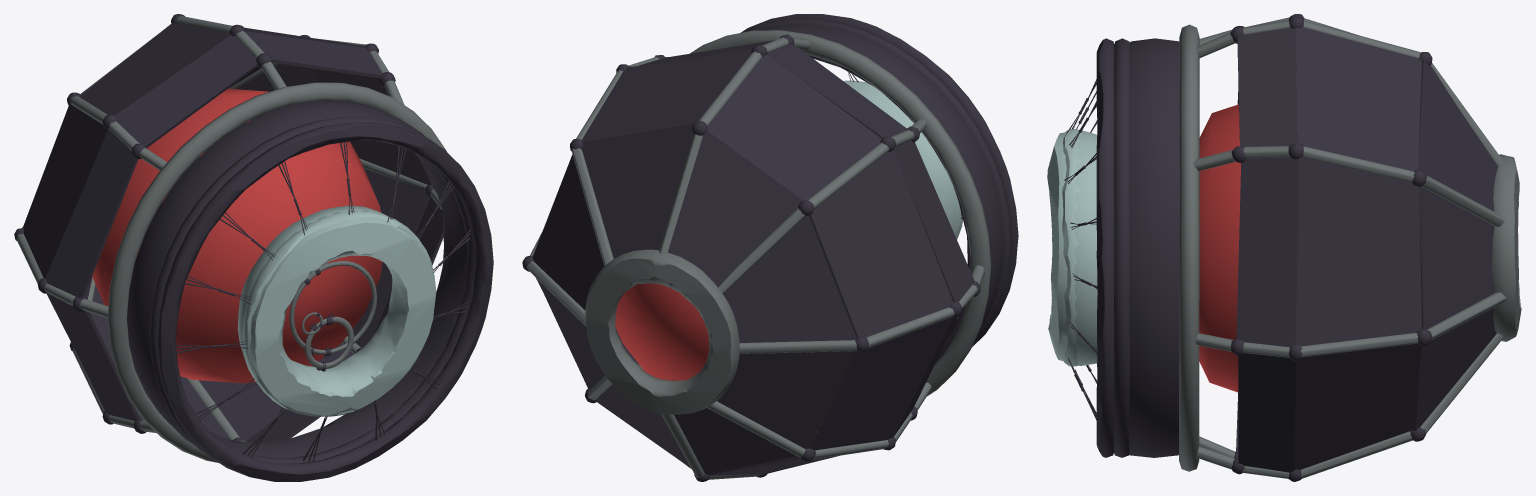
The model's file is enemy small sphere.fbx.
3 views of the same model, side by side, from view 1: azimuth 30°, elevation 25°; view 2: azimuth 150°, elevation 25°; view 3: azimuth 270°, elevation 25° (orthographic). The views are drawn at different scales.
Visible parts, largest first — view 1: pCube67, pSphere43, pSphere2, pSphere42, polySurface583, polySurface249, polySurface575; view 2: pCube67, pSphere43, pSphere2, pSphere42; view 3: pCube67, pSphere43, pSphere42, pSphere2, polySurface583.
Part boxes in pixels (x1,y1,x2,y2): pCube67: (14,14,446,462); pSphere43: (127,100,493,481); pSphere2: (92,88,382,383); pSphere42: (237,205,436,416); polySurface583: (156,142,470,461); polySurface249: (289,261,376,358); polySurface575: (305,313,353,371); pCube67: (522,30,991,481); pSphere43: (740,14,1018,362); pSphere2: (615,283,709,380); pSphere42: (843,80,962,239); pCube67: (1179,14,1521,481); pSphere43: (1096,38,1179,457); pSphere42: (1047,129,1097,366); pSphere2: (1199,104,1240,392); polySurface583: (1064,74,1114,420).
Bounding box in the file's own units: 157 × 159 × 148.
